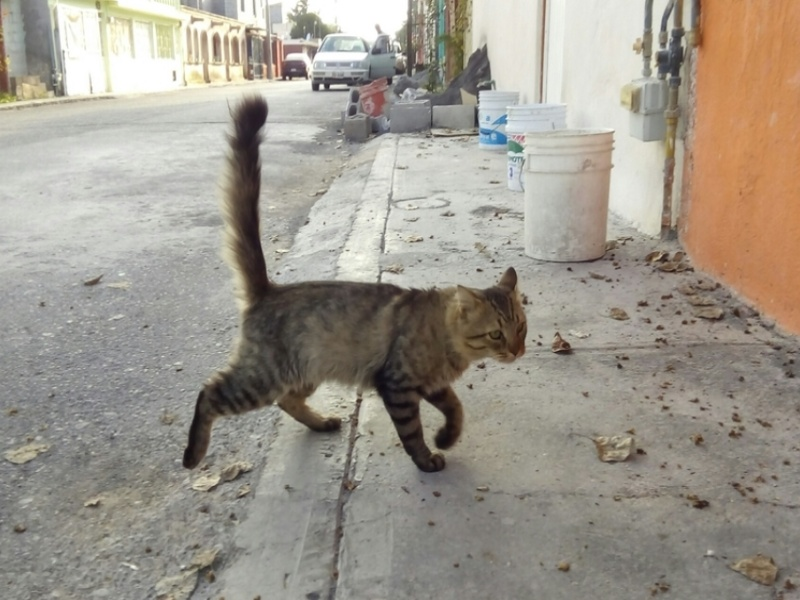cat: (175, 98, 531, 480)
